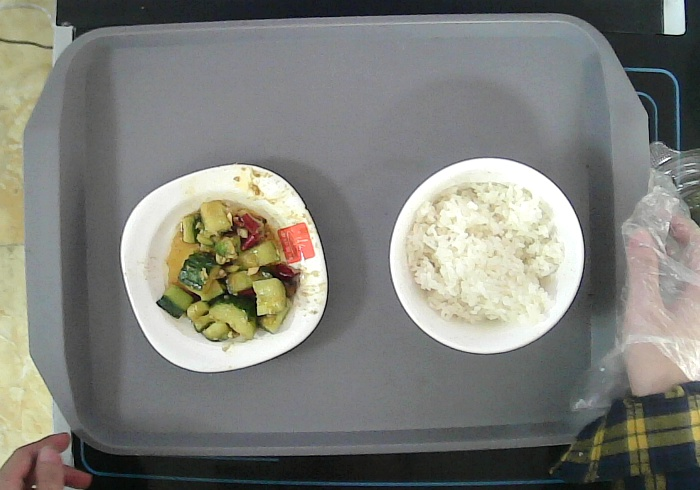SHKJ-Bai_Se_Si_Fang_Cai_Die: (120, 165, 328, 372)
SHKJ-Fan_Wan: (389, 156, 585, 354)
